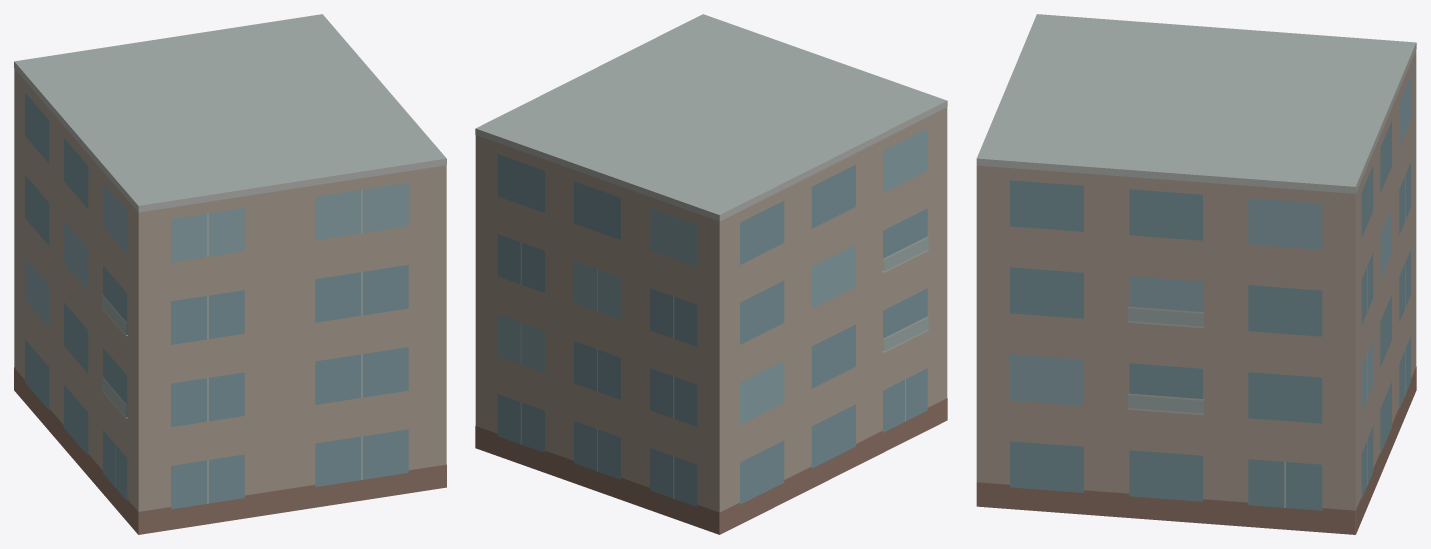
File: residential-751ee507-896f-416d-8fc2-a1aa7410c4cb.glb
The picture shows the model from 3 angles, left to right: view 1: azimuth 30°, elevation 25°; view 2: azimuth 150°, elevation 25°; view 3: azimuth 270°, elevation 25°; orthographic projection. The views are drawn at different scales.
Visible parts, largest first — view 1: residential-751ee507-896f-416d-8fc2-a1aa7410c4cb.tmp; view 2: residential-751ee507-896f-416d-8fc2-a1aa7410c4cb.tmp; view 3: residential-751ee507-896f-416d-8fc2-a1aa7410c4cb.tmp.
Boxes of the visible parts, x1=… form: residential-751ee507-896f-416d-8fc2-a1aa7410c4cb.tmp: x1=14, y1=14, x2=446, y2=534; residential-751ee507-896f-416d-8fc2-a1aa7410c4cb.tmp: x1=475, y1=14, x2=947, y2=534; residential-751ee507-896f-416d-8fc2-a1aa7410c4cb.tmp: x1=976, y1=14, x2=1416, y2=534.
Size of the model in its own units: 13.01 by 12.2 by 13.98.
